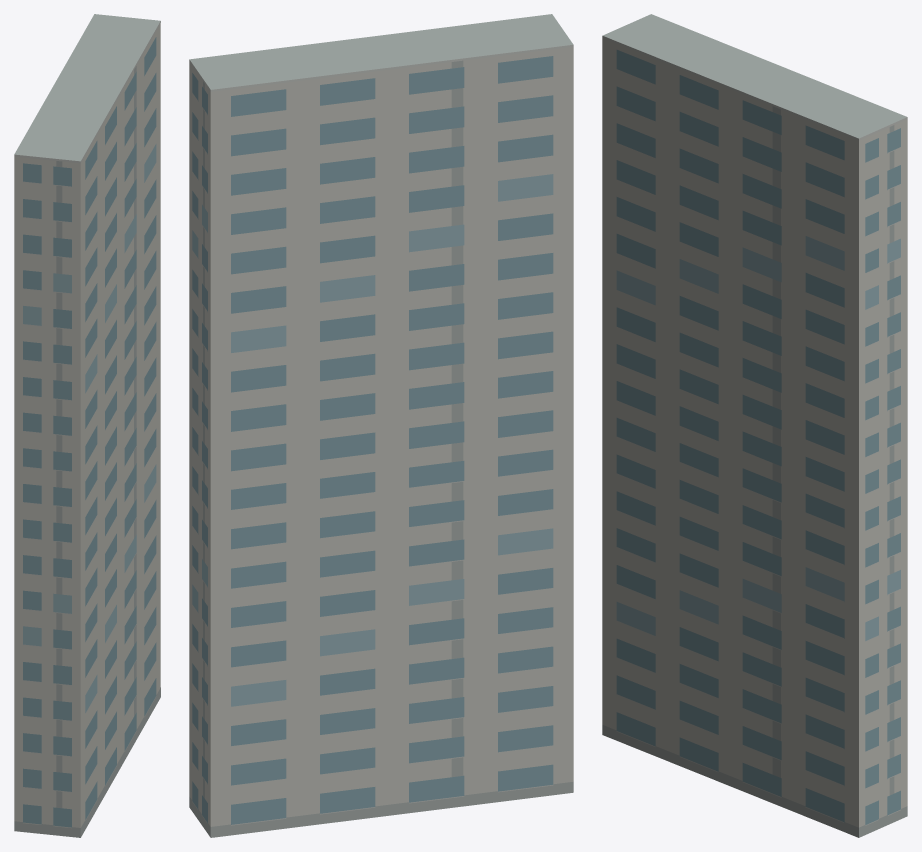
The model's file is residential-238c53a9-f969-48ec-ba91-46b1a16ab954.glb.
3 renders of one model, left to right at view 1: azimuth 30°, elevation 25°; view 2: azimuth 150°, elevation 25°; view 3: azimuth 270°, elevation 25°, orthographic. The views are drawn at different scales.
Visible parts, largest first — view 1: residential-238c53a9-f969-48ec-ba91-46b1a16ab954.tmp; view 2: residential-238c53a9-f969-48ec-ba91-46b1a16ab954.tmp; view 3: residential-238c53a9-f969-48ec-ba91-46b1a16ab954.tmp.
Part boxes in pixels (x1,y1,x2,y2): residential-238c53a9-f969-48ec-ba91-46b1a16ab954.tmp: (14, 14, 160, 837); residential-238c53a9-f969-48ec-ba91-46b1a16ab954.tmp: (189, 14, 573, 837); residential-238c53a9-f969-48ec-ba91-46b1a16ab954.tmp: (602, 14, 907, 837).
Bounding box in the file's own units: 31.34 × 82 × 32.42.
